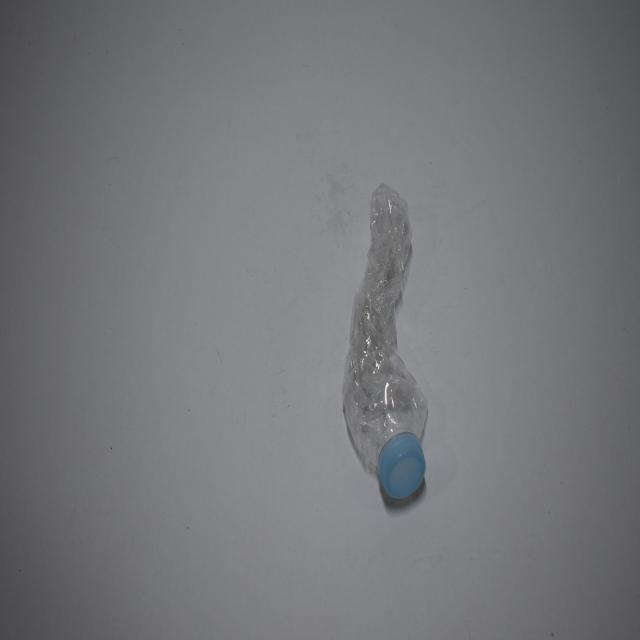bottle: (340, 166, 429, 509)
